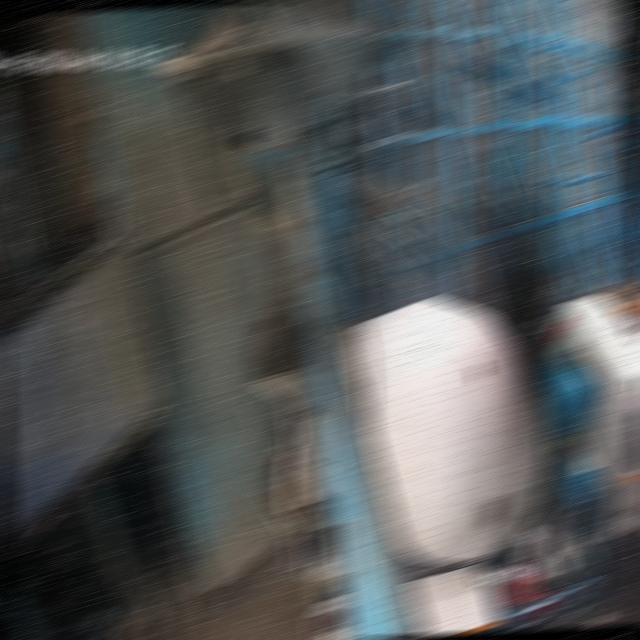cement_mixer_truck: (241, 284, 640, 639)
swing_chute: (232, 127, 344, 343)
